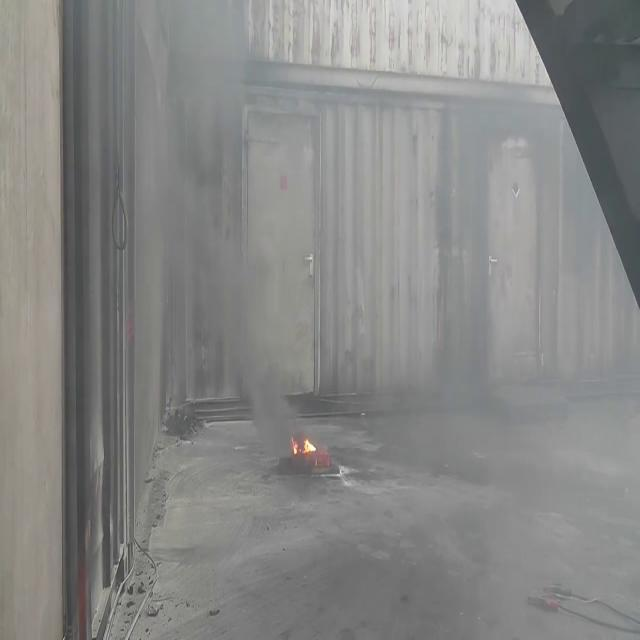Fire: (292, 424, 318, 462)
Smoke: (126, 0, 331, 405)
